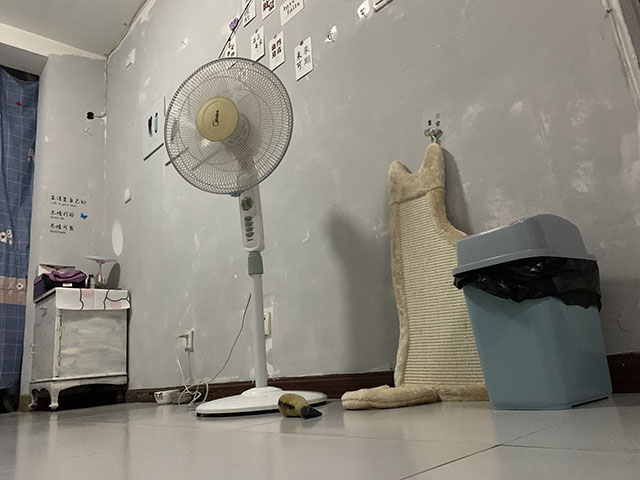cabinet: (27, 285, 132, 413)
trashcan: (450, 212, 615, 412)
wire: (172, 291, 253, 411)
